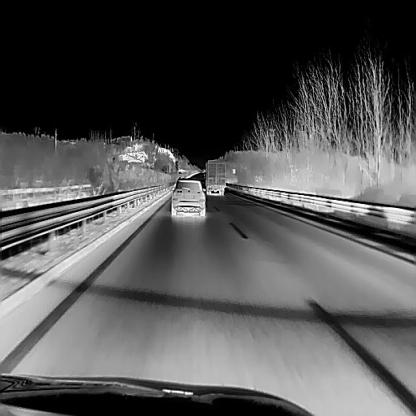car: (170, 176, 205, 216)
truck: (204, 158, 226, 194)
